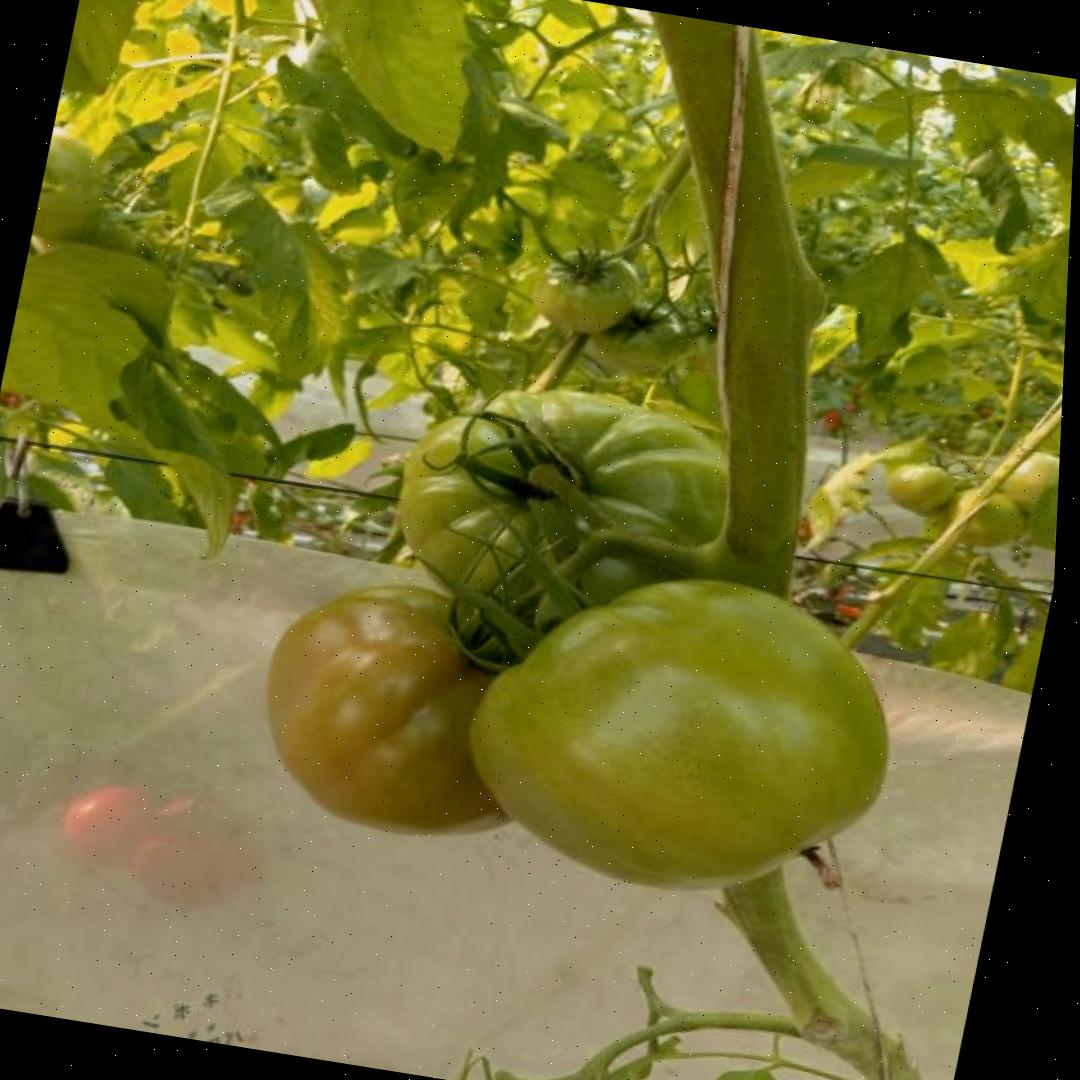mentah: (447, 552, 925, 922), (368, 370, 780, 692), (232, 566, 586, 857), (531, 241, 645, 338), (879, 459, 957, 518)
